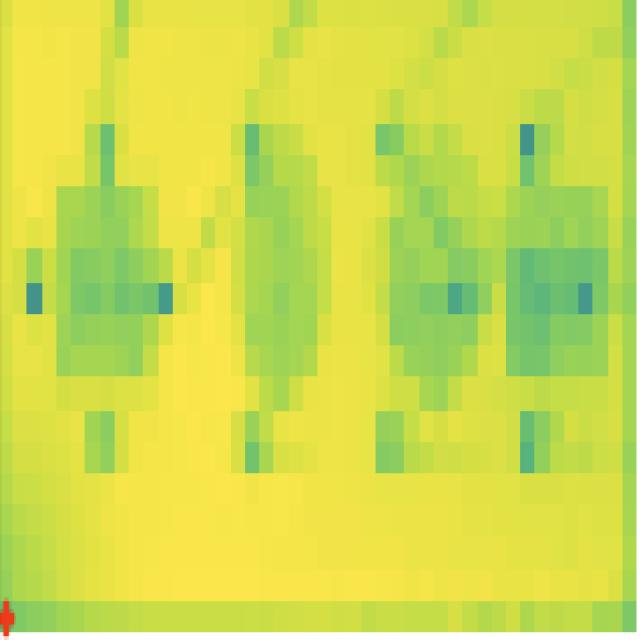Concrete: (235, 163, 315, 410)
Glass: (56, 184, 158, 376)
Metal: (385, 165, 482, 405)
Wood: (507, 184, 608, 376)
